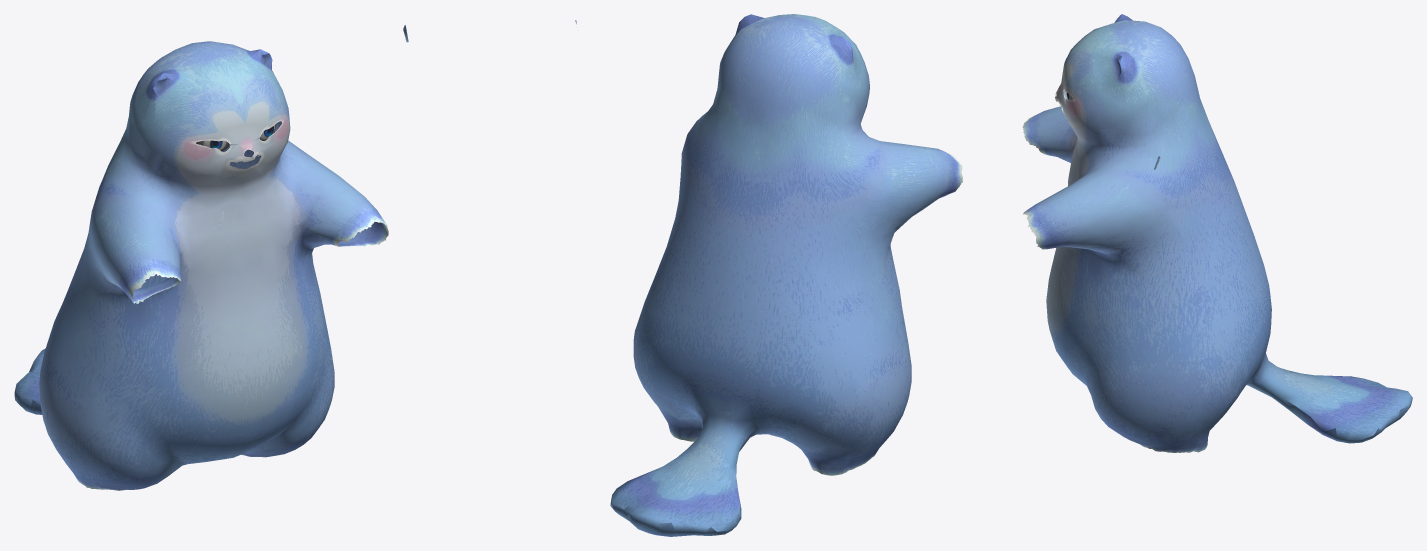
File: panpanta.glb
3 renders of one model, left to right at view 1: azimuth 30°, elevation 25°; view 2: azimuth 150°, elevation 25°; view 3: azimuth 270°, elevation 25°, orthographic. The views are drawn at different scales.
Visible parts, largest first — view 1: M_Parmon_10174_Body_LOD1_359222933.obj; view 2: M_Parmon_10174_Body_LOD1_359222933.obj; view 3: M_Parmon_10174_Body_LOD1_359222933.obj.
Boxes of the visible parts, x1,y1,x2,y2 form: M_Parmon_10174_Body_LOD1_359222933.obj: [14, 41, 388, 490]; M_Parmon_10174_Body_LOD1_359222933.obj: [610, 14, 962, 536]; M_Parmon_10174_Body_LOD1_359222933.obj: [1022, 14, 1412, 452].
Bounding box in the file's own units: 1.3 × 1.36 × 1.25.
2 materials, 2 textured.
